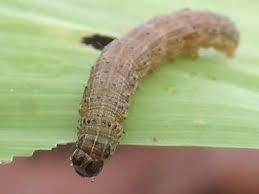fallarmy_worm: (64, 7, 250, 182)
